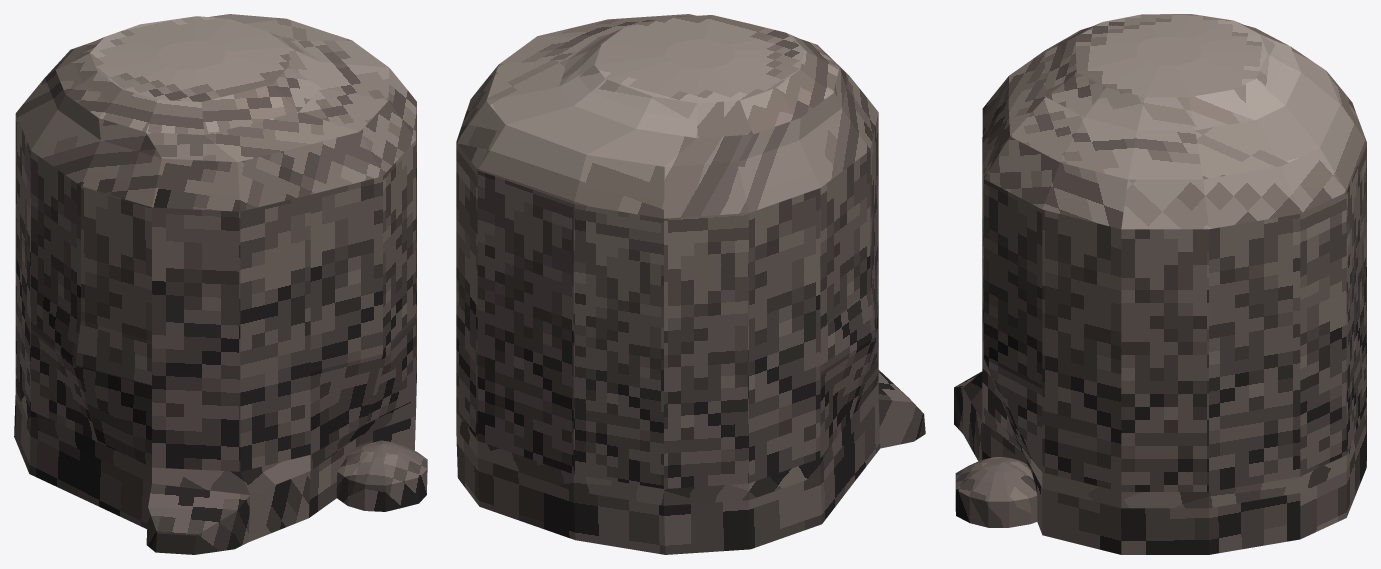
The model's file is rock_outcropping_163x02.gltf.
The picture shows the model from 3 angles, left to right: view 1: azimuth 30°, elevation 25°; view 2: azimuth 150°, elevation 25°; view 3: azimuth 270°, elevation 25°; orthographic projection. The views are drawn at different scales.
Parts seen in each view (by area): view 1: RockOutCropping2; view 2: RockOutCropping2; view 3: RockOutCropping2.
Part boxes in pixels (left/top/right/bottom): RockOutCropping2: left=14, top=14, right=427, bottom=554; RockOutCropping2: left=456, top=14, right=925, bottom=554; RockOutCropping2: left=954, top=14, right=1366, bottom=554.
Bounding box in the file's own units: 3.78 × 4.22 × 3.89.
Materials: 1 (1 with a texture image).
